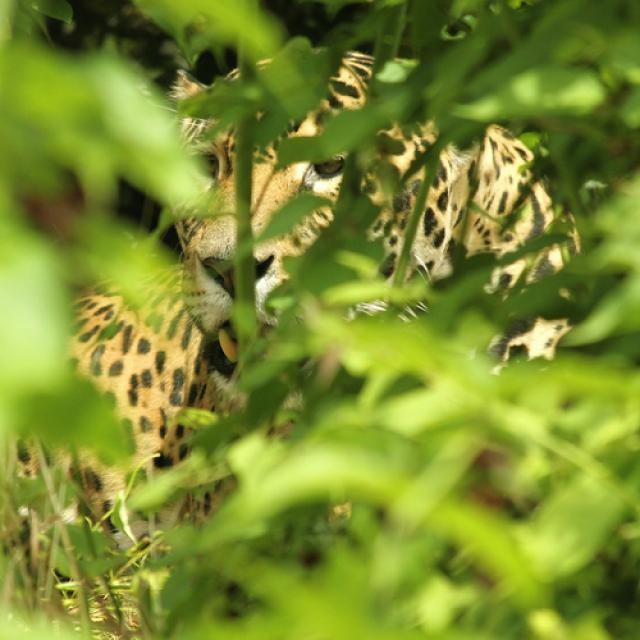Leopard: (0, 44, 584, 578)
